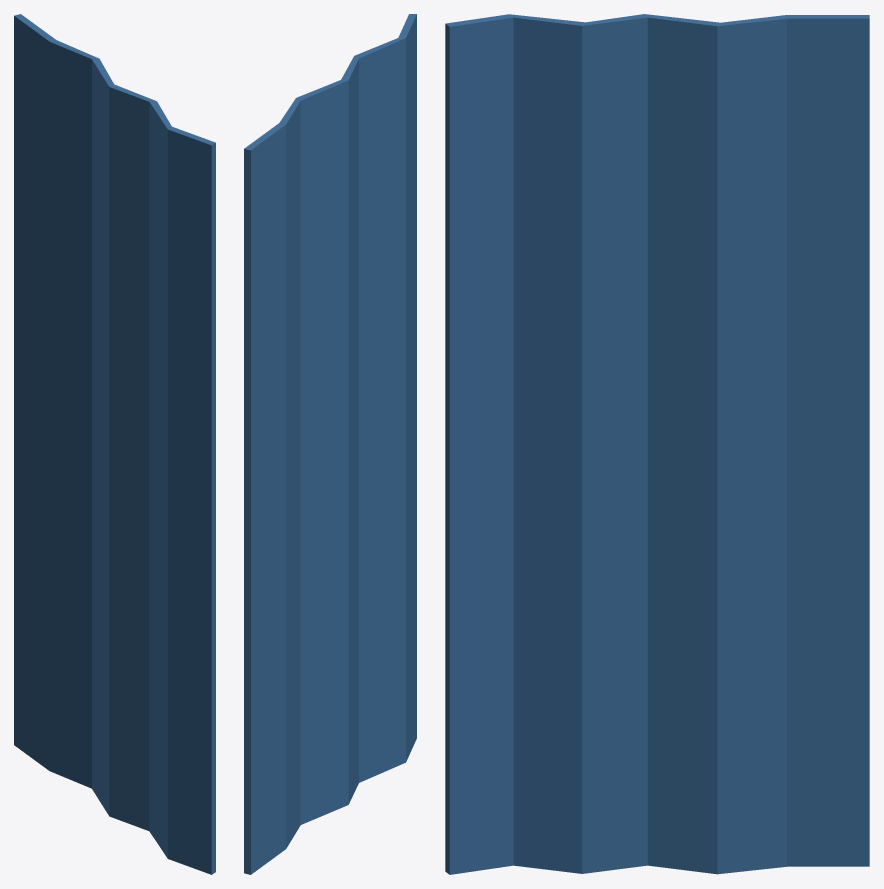
Rendered from Curtain.fbx.
3 renders of one model, left to right at view 1: azimuth 30°, elevation 25°; view 2: azimuth 150°, elevation 25°; view 3: azimuth 270°, elevation 25°, orthographic. The views are drawn at different scales.
Visible parts, largest first — view 1: Curtain; view 2: Curtain; view 3: Curtain.
Boxes of the visible parts, x1,y1,x2,y2 form: Curtain: (14,14,215,874); Curtain: (244,14,416,874); Curtain: (445,14,869,874).
Bounding box in the file's own units: 23.34 × 712 × 323.
